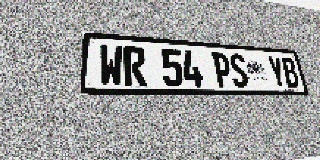4: (181, 50, 204, 87)
5: (161, 49, 184, 87)
B: (280, 57, 301, 88)
P: (211, 52, 233, 87)
R: (123, 46, 147, 86)
S: (228, 53, 250, 87)
W: (99, 44, 123, 86)
Y: (267, 56, 287, 88)
